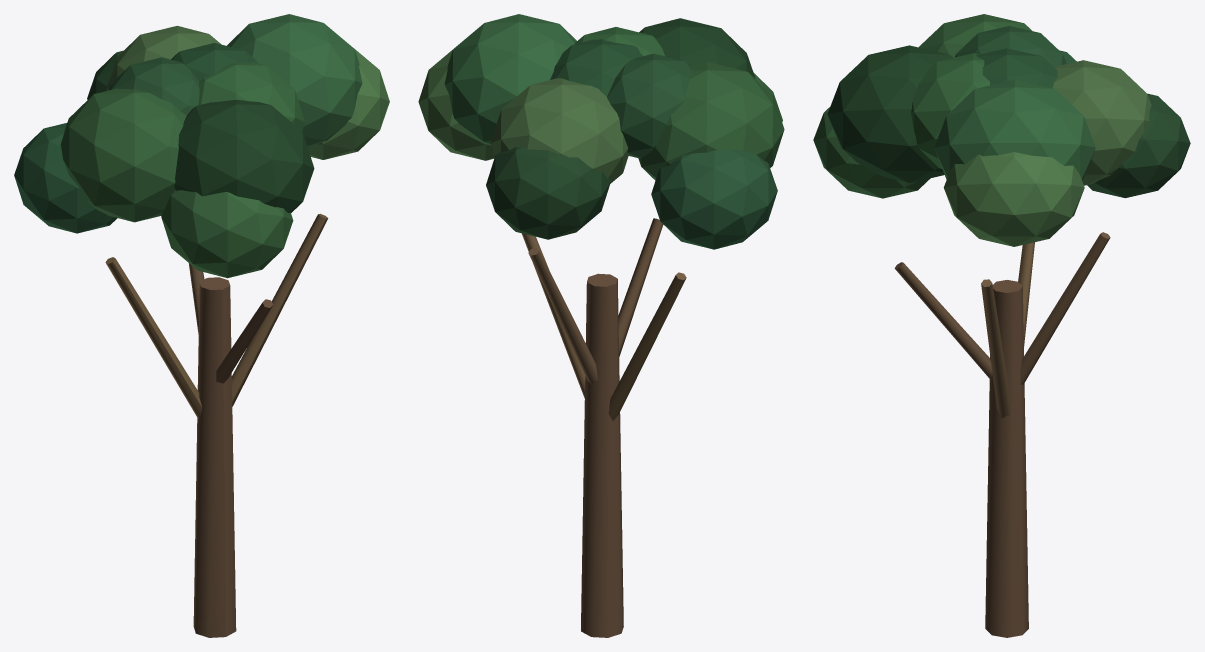
The model's file is broadleaf-round.mid.glb.
3 renders of one model, left to right at view 1: azimuth 30°, elevation 25°; view 2: azimuth 150°, elevation 25°; view 3: azimuth 270°, elevation 25°, orthographic.
Parts seen in each view (by area): view 1: foliage, wood; view 2: foliage, wood; view 3: foliage, wood.
Boxes of the visible parts, x1=… form: foliage: x1=14, y1=14, x2=389, y2=278; wood: x1=105, y1=213, x2=328, y2=637; foliage: x1=418, y1=14, x2=784, y2=249; wood: x1=521, y1=218, x2=686, y2=637; foliage: x1=813, y1=14, x2=1190, y2=246; wood: x1=894, y1=232, x2=1110, y2=637.
Bounding box in the file's own units: 6.81 × 11 × 6.49.
